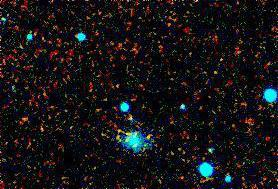star: (8, 106, 38, 136)
